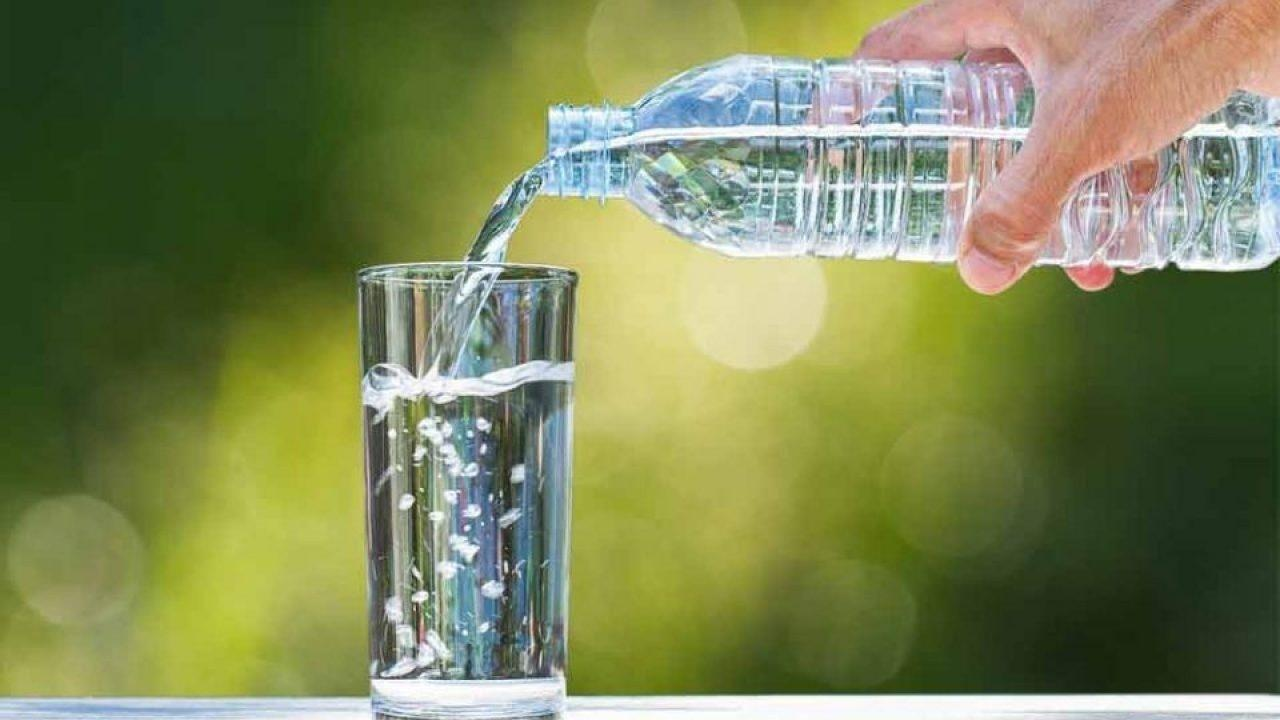bottle-plastic: (531, 46, 1280, 276)
glass-normal: (351, 255, 578, 716)
